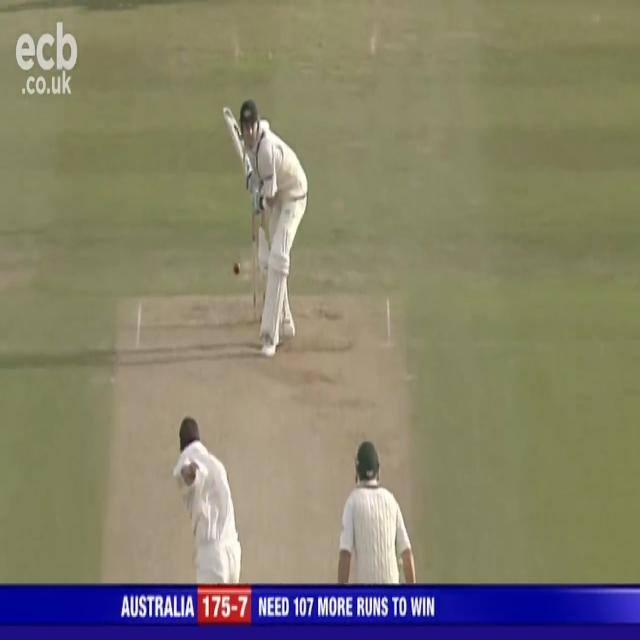ball: (231, 257, 243, 278)
